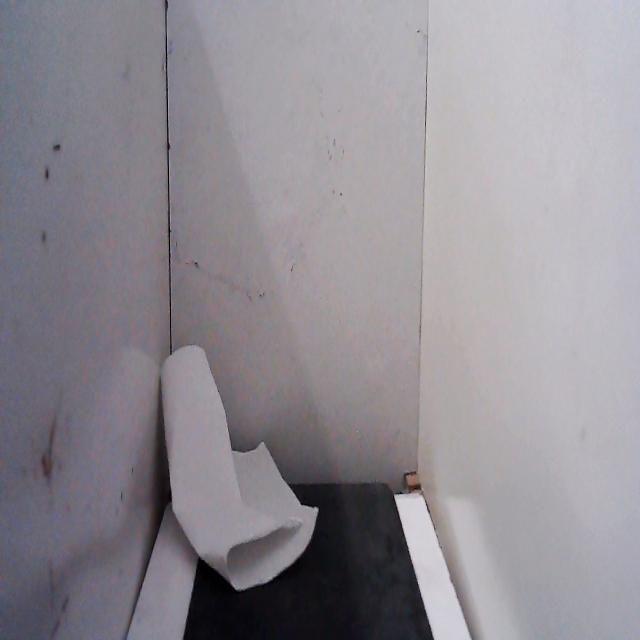papel: (155, 336, 322, 604)
